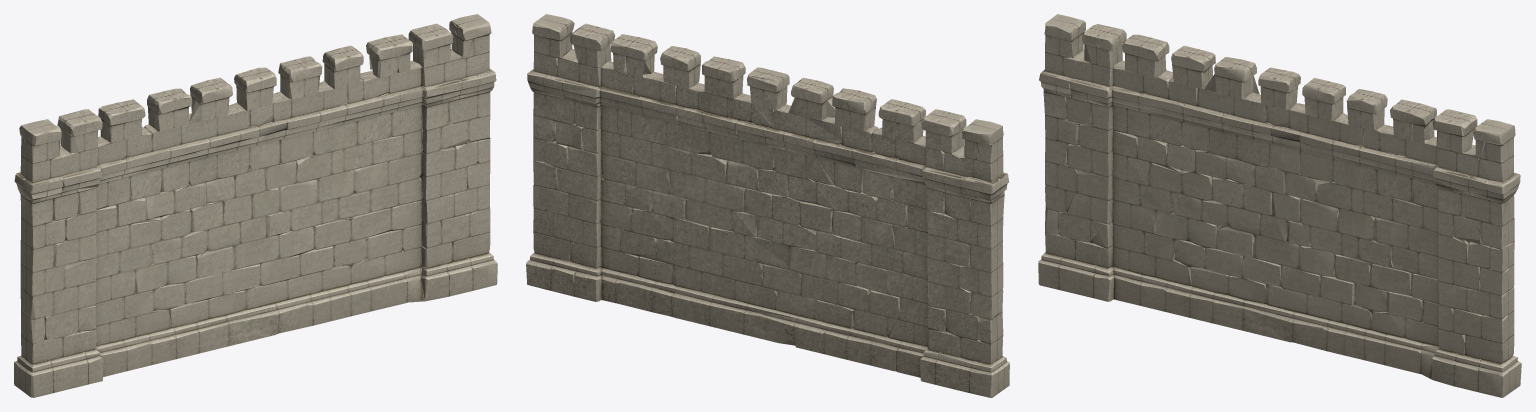
Rendered from wall_segment.glb.
3 renders of one model, left to right at view 1: azimuth 30°, elevation 25°; view 2: azimuth 150°, elevation 25°; view 3: azimuth 330°, elevation 25°, orthographic.
Visible parts, largest first — view 1: output_unwrapped; view 2: output_unwrapped; view 3: output_unwrapped.
Boxes of the visible parts, bbox=[...] form: output_unwrapped: bbox=[14, 14, 497, 397]; output_unwrapped: bbox=[526, 14, 1009, 397]; output_unwrapped: bbox=[1038, 14, 1521, 397].
Bounding box in the file's own units: 1.9 × 1.02 × 0.1349.
Materials: 1 (1 with a texture image).
